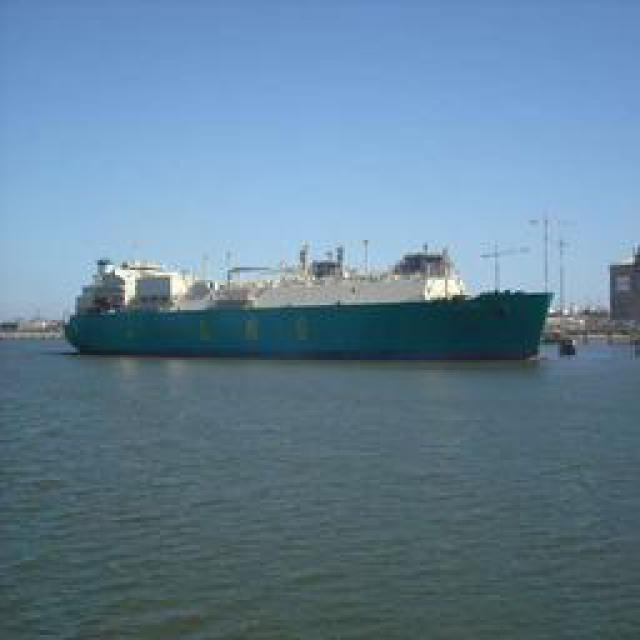Ship: (67, 275, 557, 363)
